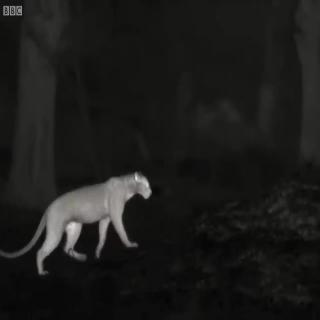Leopard: (12, 163, 162, 296)
